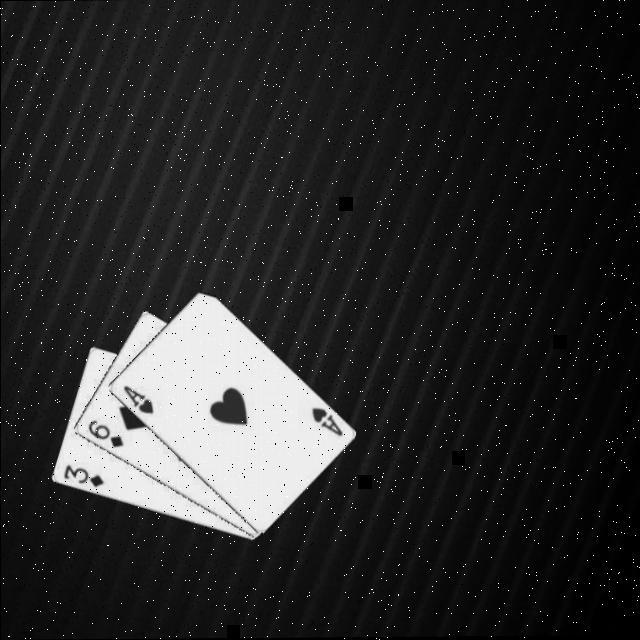3D: (58, 460, 104, 489)
6D: (82, 416, 124, 448)
AH: (306, 402, 343, 438), (118, 380, 154, 415)
